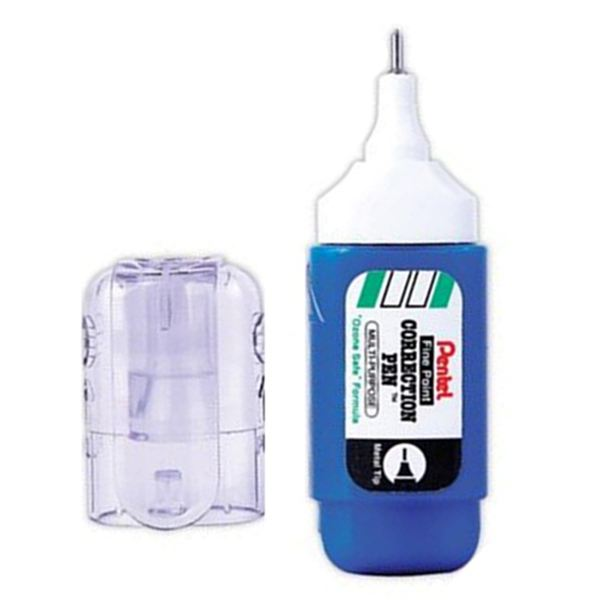Correction_fluid: (297, 22, 490, 584)
